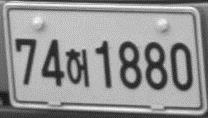0: (169, 41, 193, 91)
1: (94, 39, 113, 88)
4: (40, 38, 65, 87)
7: (14, 38, 37, 85)
8: (143, 41, 168, 90), (118, 40, 142, 89)
허: (64, 47, 90, 87)
